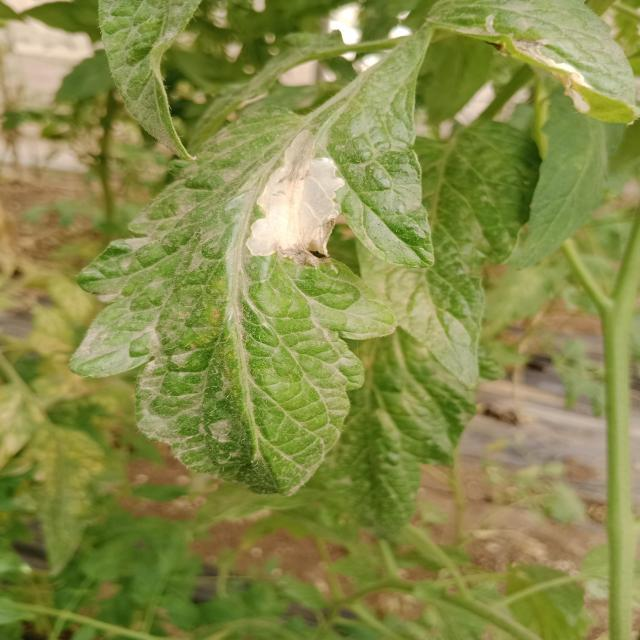Tuta absoluta: (244, 123, 357, 273)
